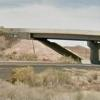Bridge: (21, 20, 97, 49)
